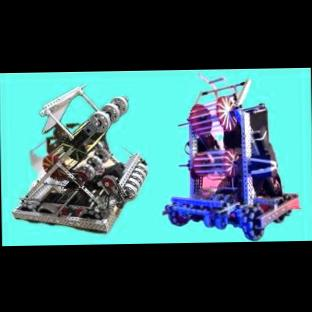Robot: (162, 73, 299, 240), (12, 84, 146, 231)
